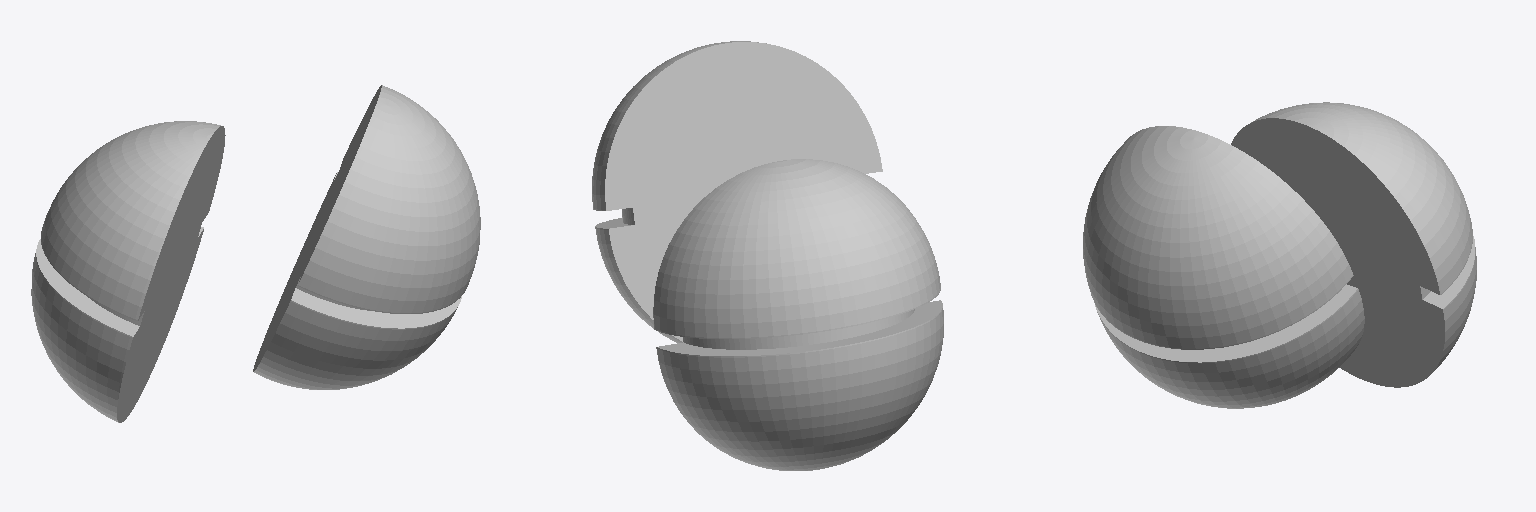
Rendered from Drone166_000008.obj.
3 renders of one model, left to right at view 1: azimuth 30°, elevation 25°; view 2: azimuth 150°, elevation 25°; view 3: azimuth 270°, elevation 25°, orthographic.
Visible parts, largest first — view 1: Sphere.001_Sphere.005, Sphere.000_Sphere.004; view 2: Sphere.000_Sphere.004, Sphere.001_Sphere.005; view 3: Sphere.001_Sphere.005, Sphere.000_Sphere.004.
Boxes of the visible parts, <box> form: Sphere.001_Sphere.005: <box>253,85,480,389</box>; Sphere.000_Sphere.004: <box>31,121,225,422</box>; Sphere.000_Sphere.004: <box>653,159,943,470</box>; Sphere.001_Sphere.005: <box>592,41,882,342</box>; Sphere.001_Sphere.005: <box>1083,126,1364,408</box>; Sphere.000_Sphere.004: <box>1231,102,1476,387</box>.
Bounding box in the file's own units: 2.8 × 2.43 × 2.65.